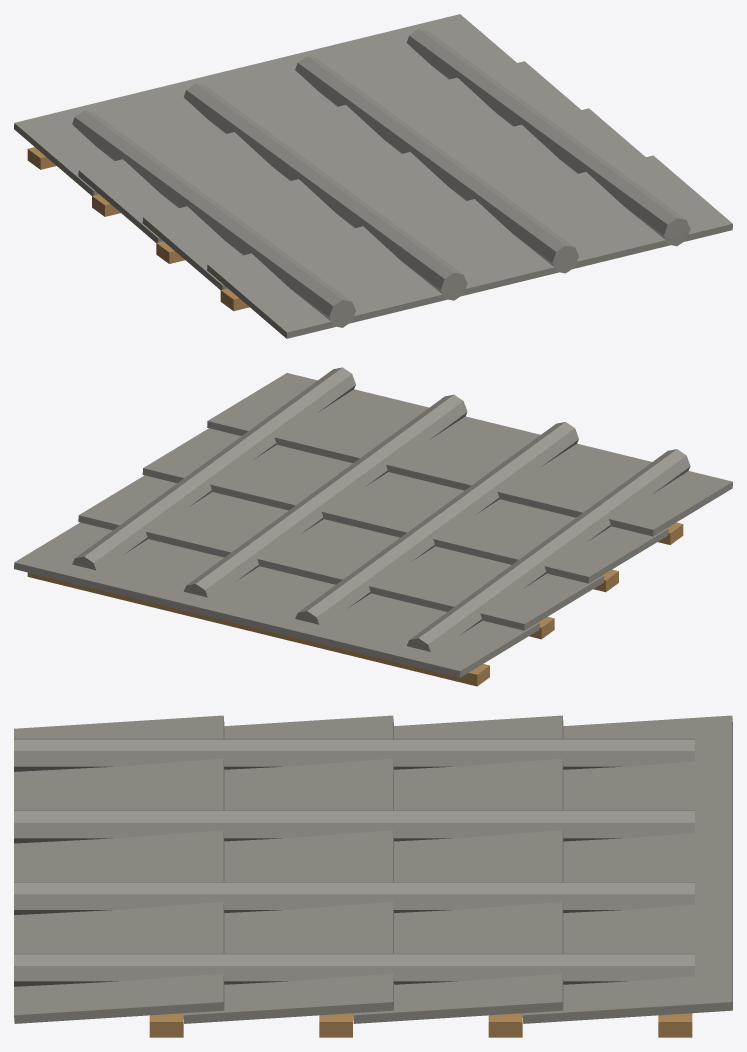
The model's file is roof.covering.concrete_tile.glb.
3 views of the same model, one above another, from view 1: azimuth 30°, elevation 25°; view 2: azimuth 150°, elevation 25°; view 3: azimuth 270°, elevation 25° (orthographic). The views are drawn at different scales.
Visible parts, largest first — view 1: main__concrete, main__softwood; view 2: main__concrete, main__softwood; view 3: main__concrete, main__softwood.
Boxes of the visible parts, x1,y1,x2,y2 form: main__concrete: (14,14,732,338); main__softwood: (27,147,249,310); main__concrete: (14,367,732,677); main__softwood: (27,522,683,686); main__concrete: (14,715,732,1023); main__softwood: (149,1013,692,1037).
Size of the model in its own units: 1.01 by 0.075 by 1.06.
